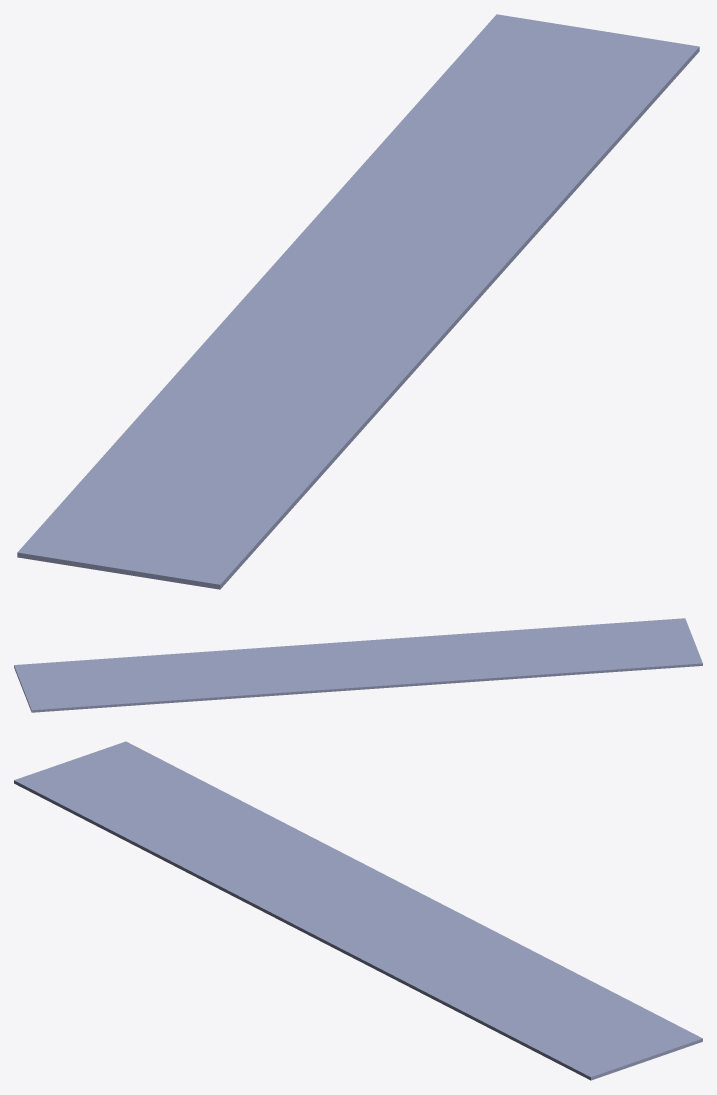
Rendered from road.002_lev1.glb.
3 views of the same model, one above another, from view 1: azimuth 30°, elevation 25°; view 2: azimuth 150°, elevation 25°; view 3: azimuth 270°, elevation 25° (orthographic). The views are drawn at different scales.
Parts seen in each view (by area): view 1: road.002_lev1; view 2: road.002_lev1; view 3: road.002_lev1.
Boxes of the visible parts, x1=… form: road.002_lev1: x1=17, y1=14, x2=699, y2=589; road.002_lev1: x1=14, y1=618, x2=702, y2=712; road.002_lev1: x1=14, y1=741, x2=702, y2=1080.
Size of the model in its own units: 25.71 by 0.1172 by 22.29.
Materials: 1 (1 with a texture image).
